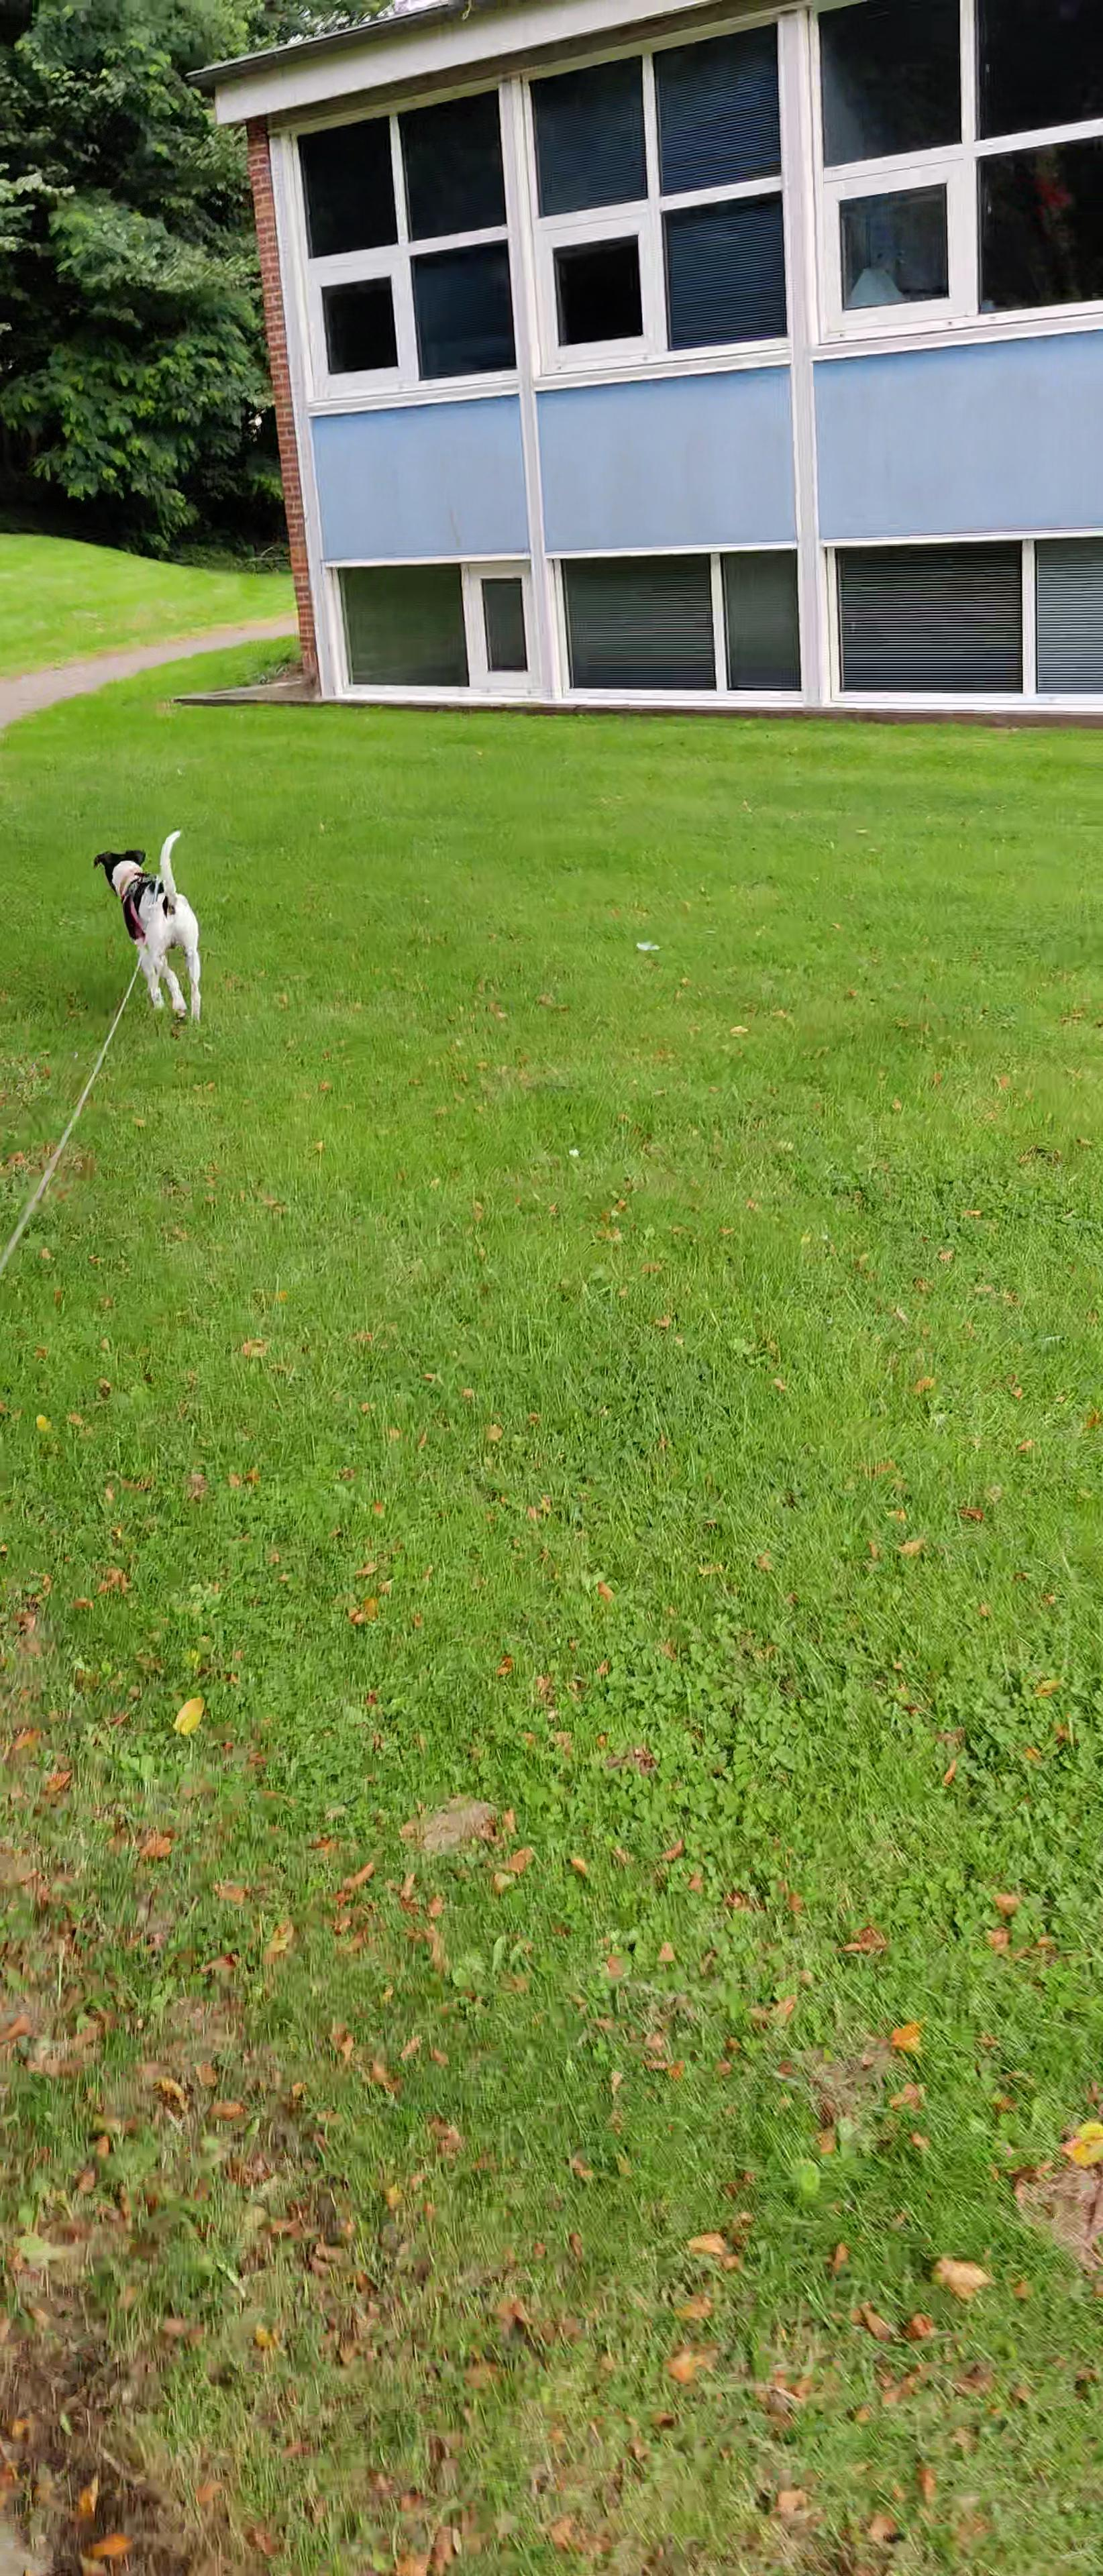Dog: (81, 821, 220, 1028)
